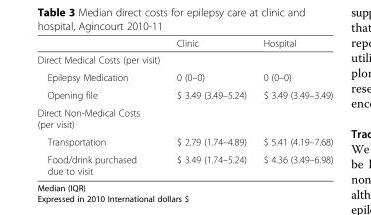table: (36, 37, 332, 176)
table column: (36, 37, 167, 176), (167, 37, 254, 176), (254, 37, 332, 176)
table column header: (36, 37, 332, 50)
table projected row header: (36, 103, 332, 132), (36, 50, 332, 68)
table row: (36, 103, 332, 132), (36, 150, 332, 176), (36, 50, 332, 68), (36, 85, 332, 103), (36, 132, 332, 150), (36, 68, 332, 85), (36, 37, 332, 50)
